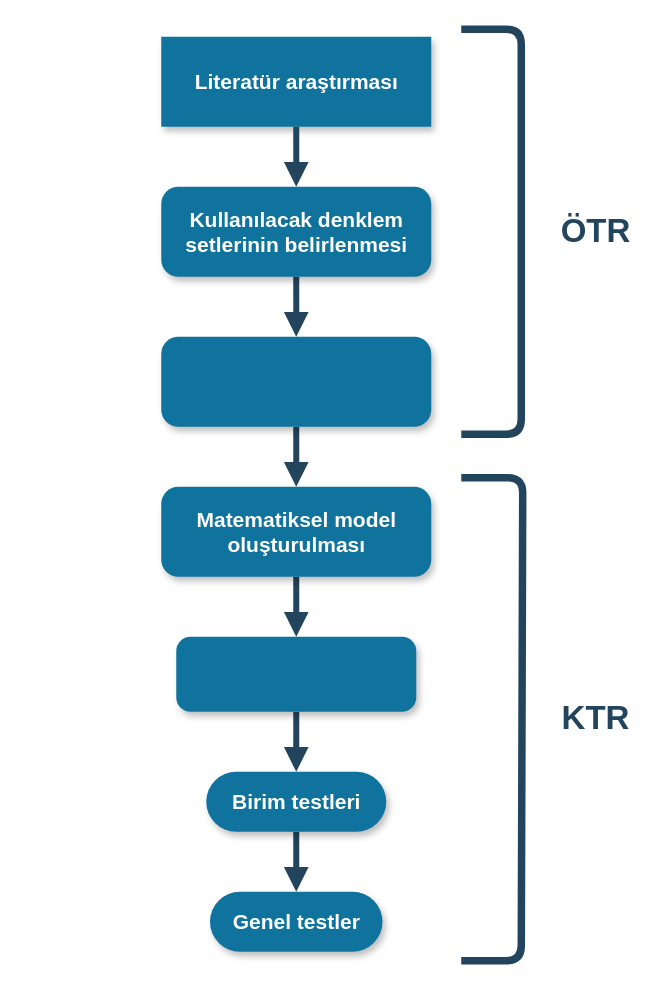
This 662x999 diagram has some shape labels left out. Each missing label, with the centre of its shape:
"Python dilinde algoritma yazılımı" belongs at point (297, 676).
"Çözüm yöntemlerinin belirlenmesi" belongs at point (297, 383).
